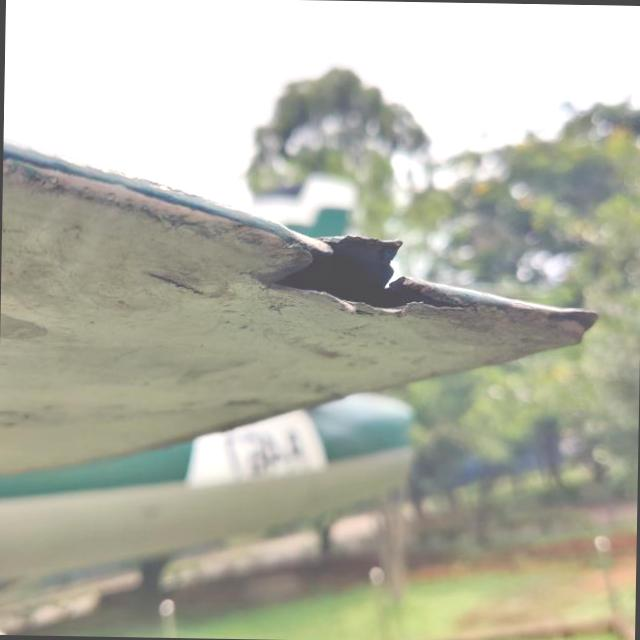crack: (239, 210, 497, 336)
